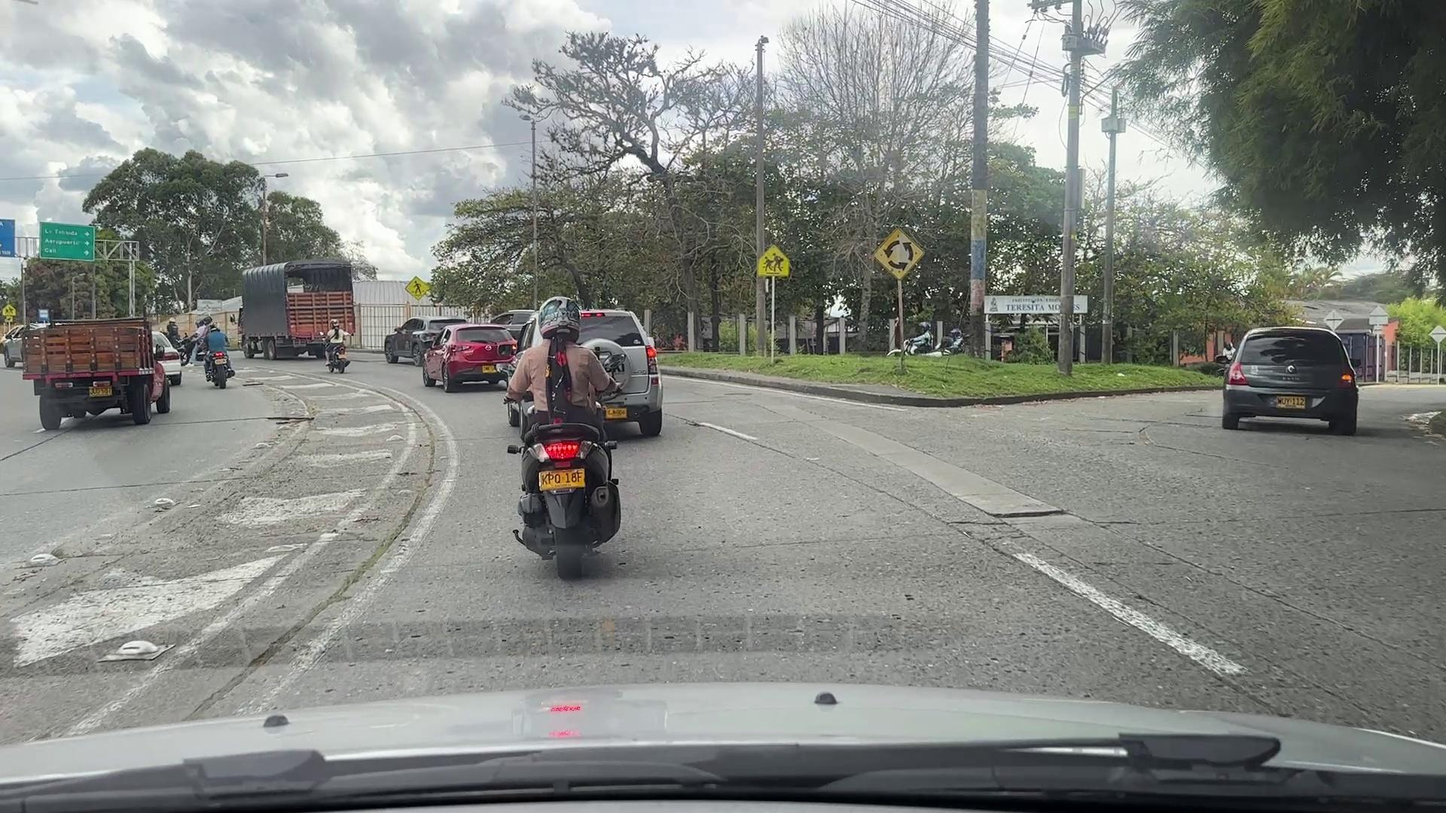bache: (993, 511, 1071, 518)
grieta: (946, 521, 1021, 527)
